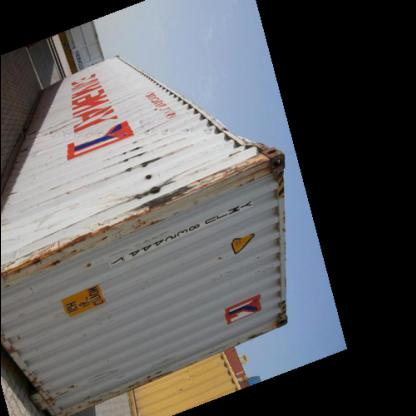Damage: (1, 181, 182, 284), (196, 116, 284, 192), (29, 366, 97, 406), (110, 130, 171, 172), (28, 120, 82, 144)
